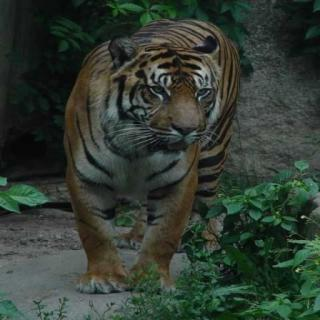Tiger: (36, 0, 283, 305)
